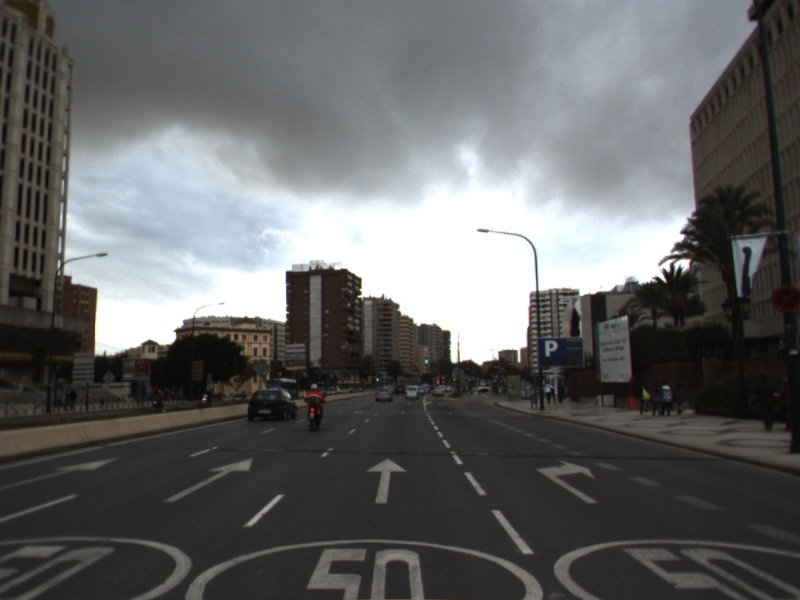RIGHT: (534, 457, 602, 506)
STRAIGHT: (160, 455, 255, 504), (1, 455, 122, 490), (364, 456, 409, 505)
